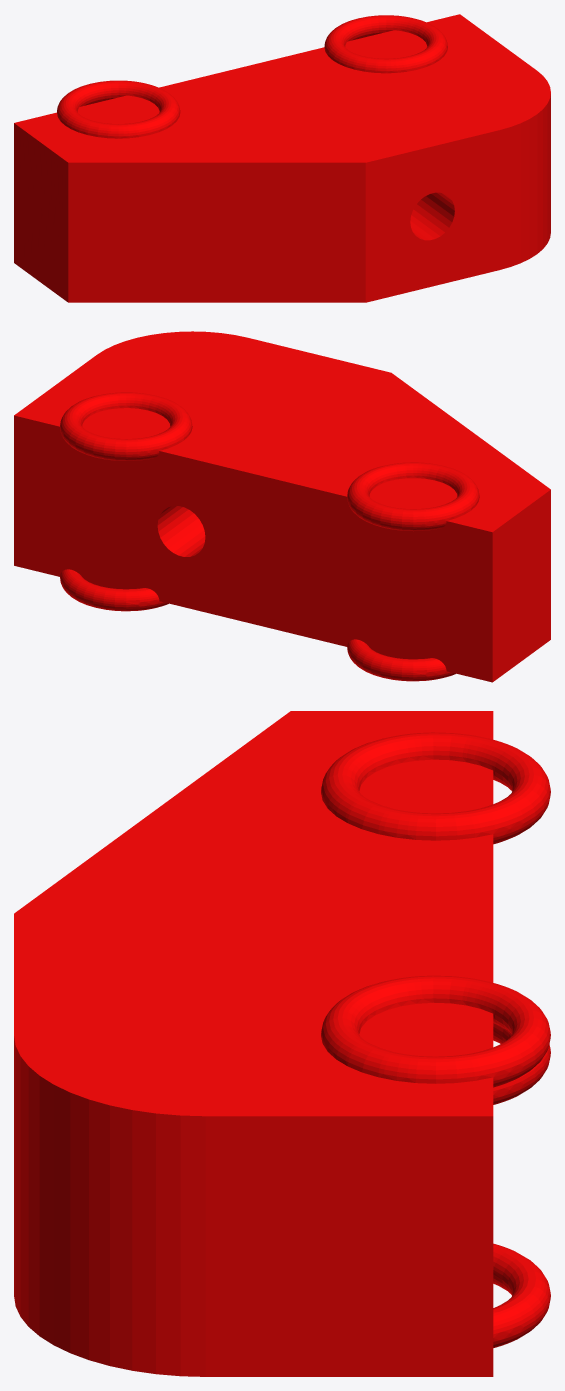
File: care.obj
3 renders of one model, top to bottom at view 1: azimuth 30°, elevation 25°; view 2: azimuth 150°, elevation 25°; view 3: azimuth 270°, elevation 25°, orthographic. The views are drawn at different scales.
Visible parts, largest first — view 1: Fusion; view 2: Fusion; view 3: Fusion.
Part boxes in pixels (x1,y1,x2,y2): Fusion: (14, 14, 550, 302); Fusion: (14, 331, 550, 682); Fusion: (14, 711, 550, 1376).
Size of the model in its own units: 100 by 33.97 by 56.
